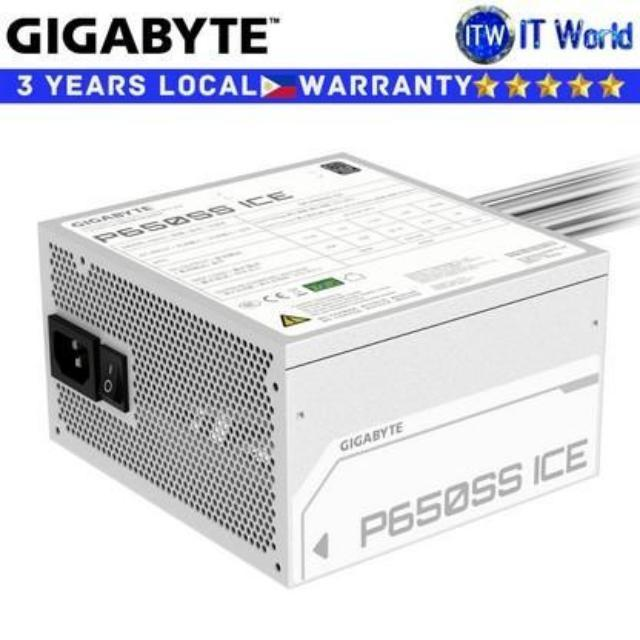PSU: (14, 140, 623, 597)
